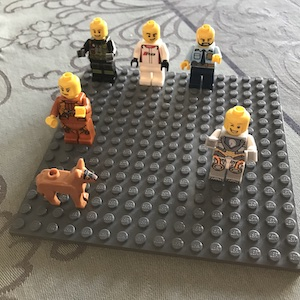Lego: (203, 107, 258, 186), (47, 72, 96, 147), (180, 22, 222, 89), (80, 17, 120, 83), (131, 18, 169, 87)
